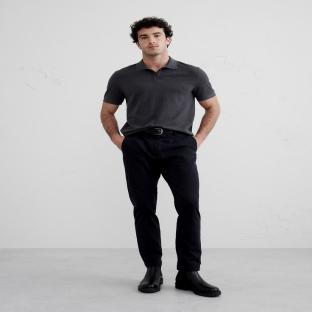Human: (101, 17, 221, 296)
